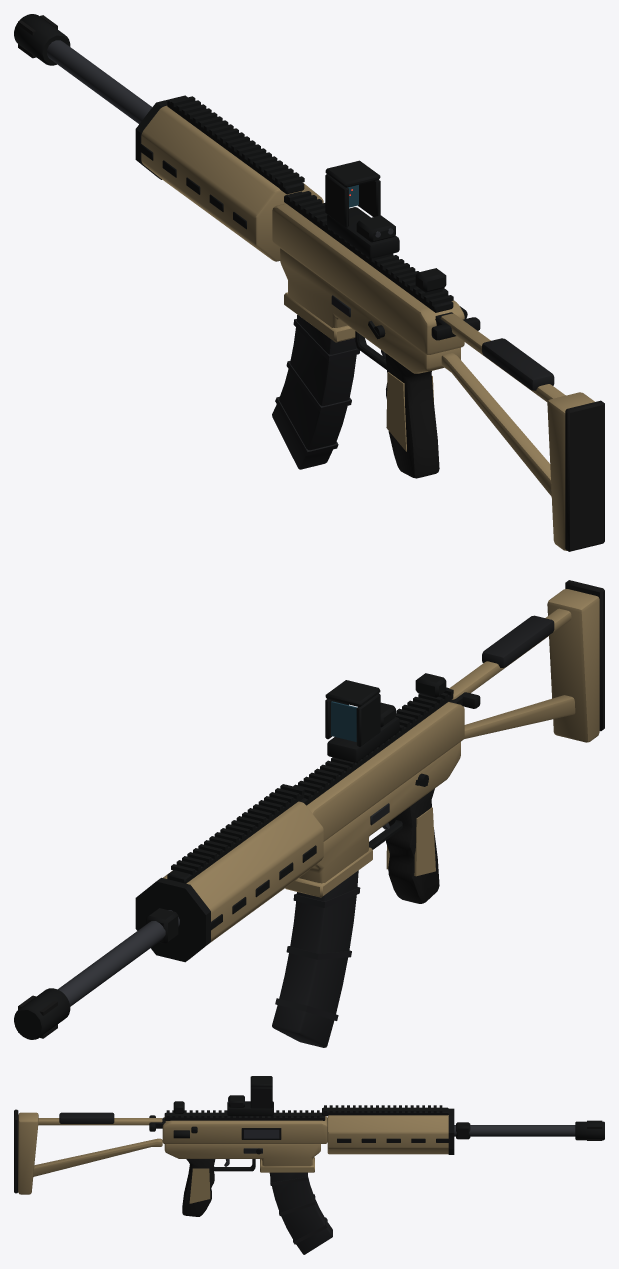
The model's file is gun_17.glb.
3 renders of one model, top to bottom at view 1: azimuth 30°, elevation 25°; view 2: azimuth 150°, elevation 25°; view 3: azimuth 270°, elevation 25°, orthographic. The views are drawn at different scales.
Visible parts, largest first — view 1: gun_17; view 2: gun_17; view 3: gun_17.
Part boxes in pixels (left/top/right/bottom): gun_17: left=14, top=14, right=604, bottom=551; gun_17: left=14, top=580, right=604, bottom=1047; gun_17: left=14, top=1076, right=604, bottom=1254.
Bounding box in the file's own units: 0.0786 × 0.344 × 1.07.
